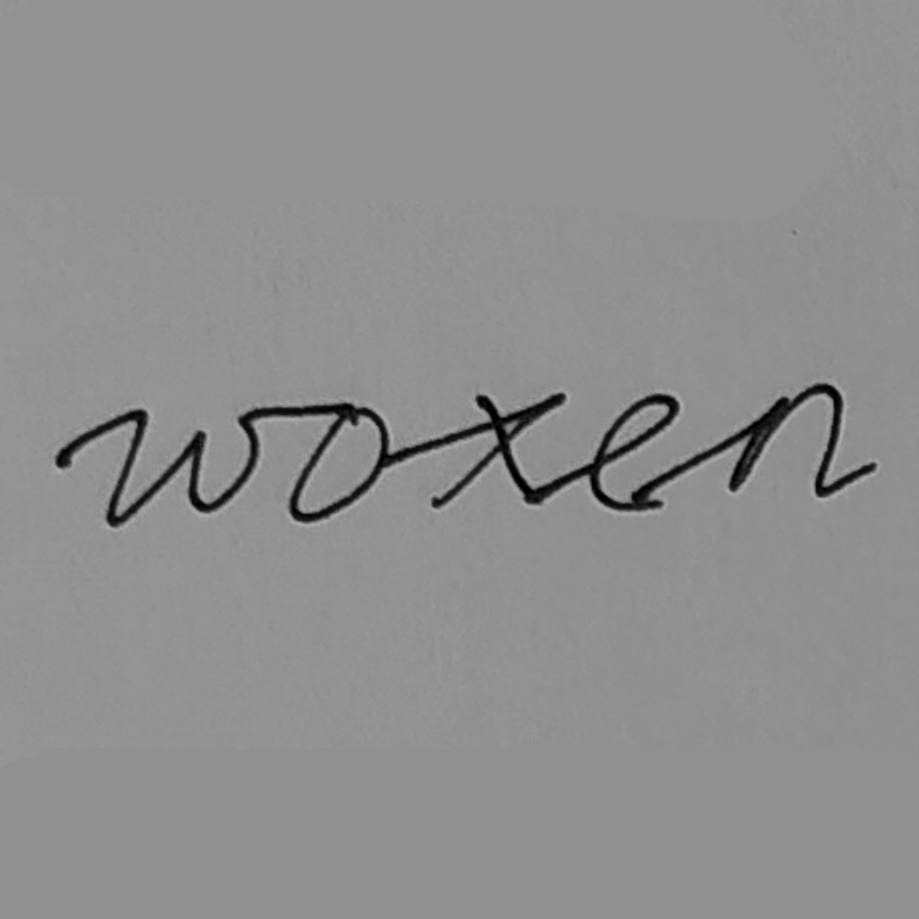e: (587, 390, 685, 518)
n: (724, 378, 846, 502)
o: (283, 400, 394, 529)
w: (101, 404, 262, 533)
x: (428, 387, 568, 513)
